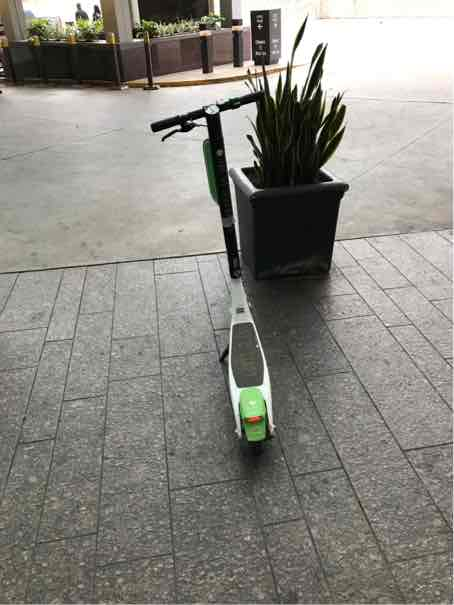scooter: (132, 79, 303, 454)
